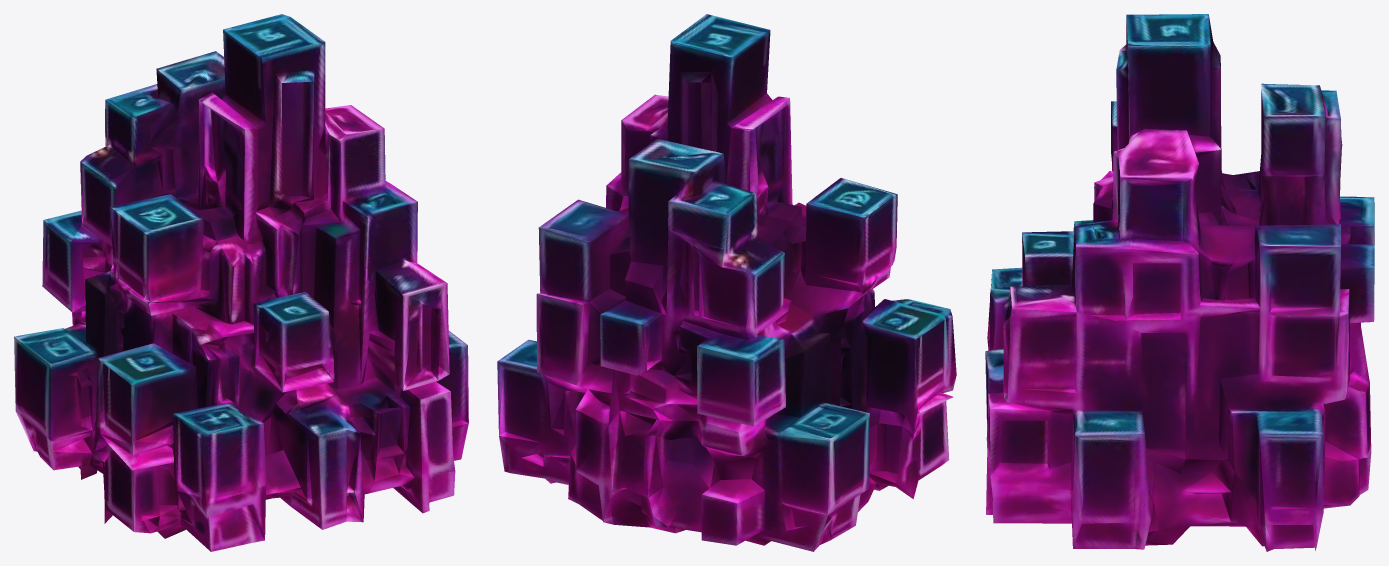
File: m2NeonCityBg.glb
3 views of the same model, side by side, from view 1: azimuth 30°, elevation 25°; view 2: azimuth 150°, elevation 25°; view 3: azimuth 270°, elevation 25° (orthographic). The views are drawn at different scales.
Parts seen in each view (by area): view 1: model; view 2: model; view 3: model.
Boxes of the visible parts, x1,y1,x2,y2 form: model: (14,14,468,551); model: (497,14,956,551); model: (985,14,1374,551).
Size of the model in its own units: 1.5 by 1.9 by 1.42.
Materials: 1 (1 with a texture image).
